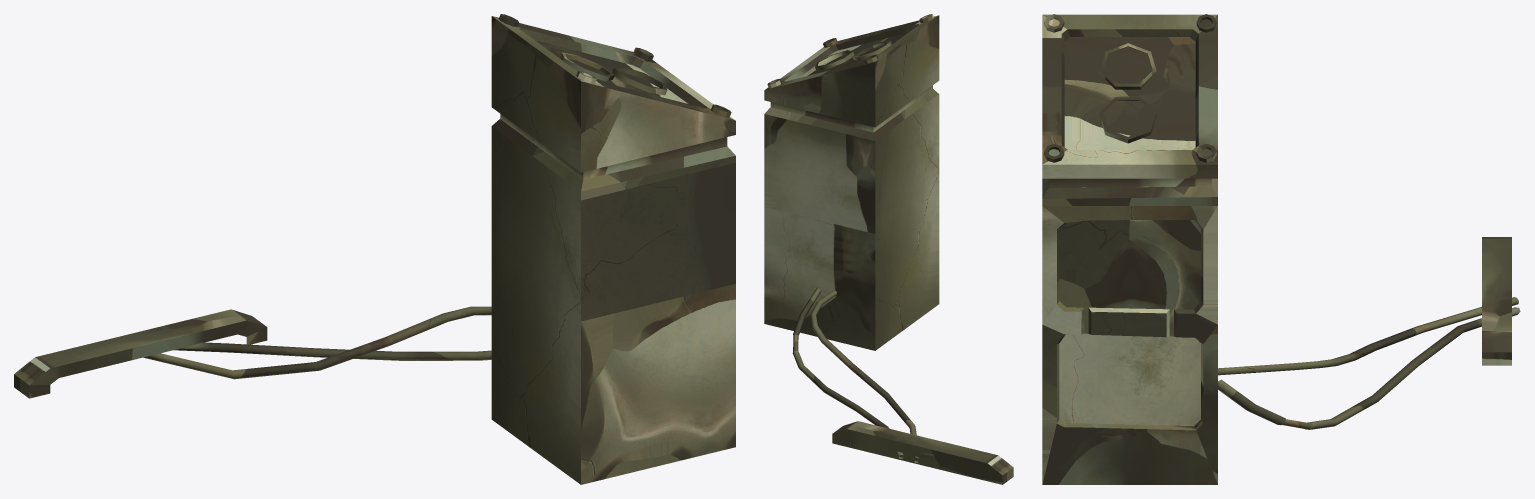
The model's file is УправлениеДорогой.fbx.
3 views of the same model, side by side, from view 1: azimuth 30°, elevation 25°; view 2: azimuth 150°, elevation 25°; view 3: azimuth 270°, elevation 25° (orthographic). The views are drawn at different scales.
Visible parts, largest first — view 1: Cube.276; view 2: Cube.276; view 3: Cube.276.
Boxes of the visible parts, x1,y1,x2,y2 form: Cube.276: [14, 14, 735, 484]; Cube.276: [764, 14, 1013, 484]; Cube.276: [1042, 14, 1520, 484].
Size of the model in its own units: 406 by 354 by 326.
